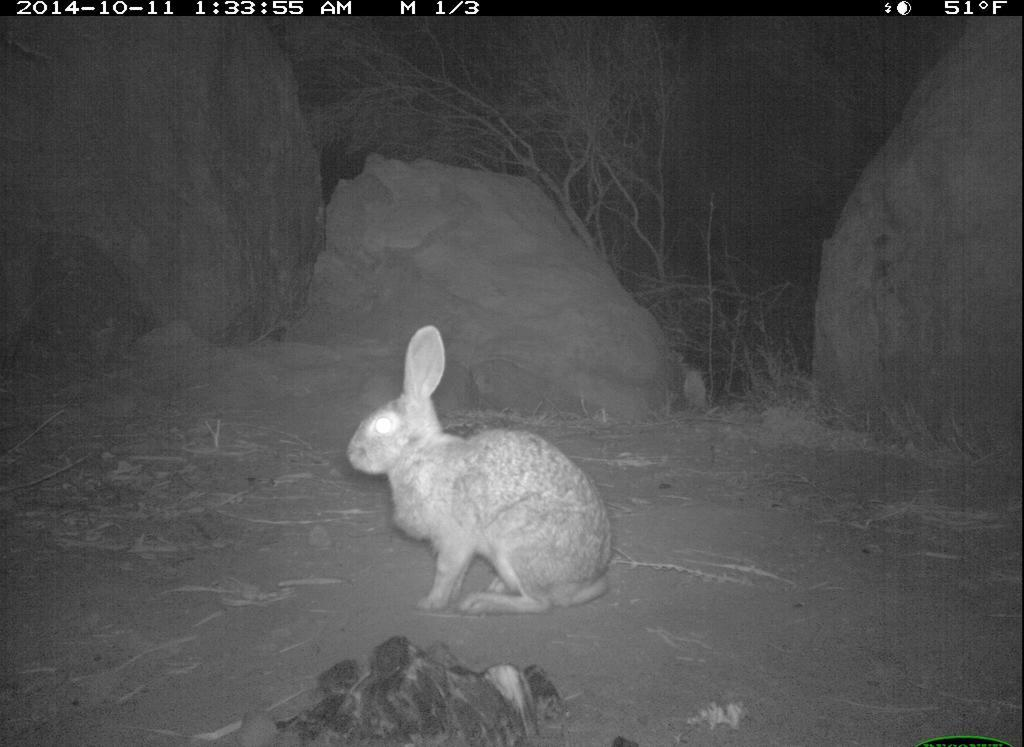rabbit: (336, 328, 614, 614)
